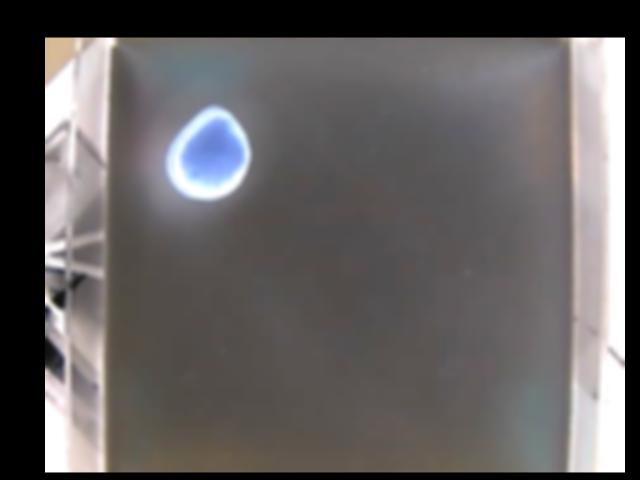Potato: (164, 101, 252, 204)
